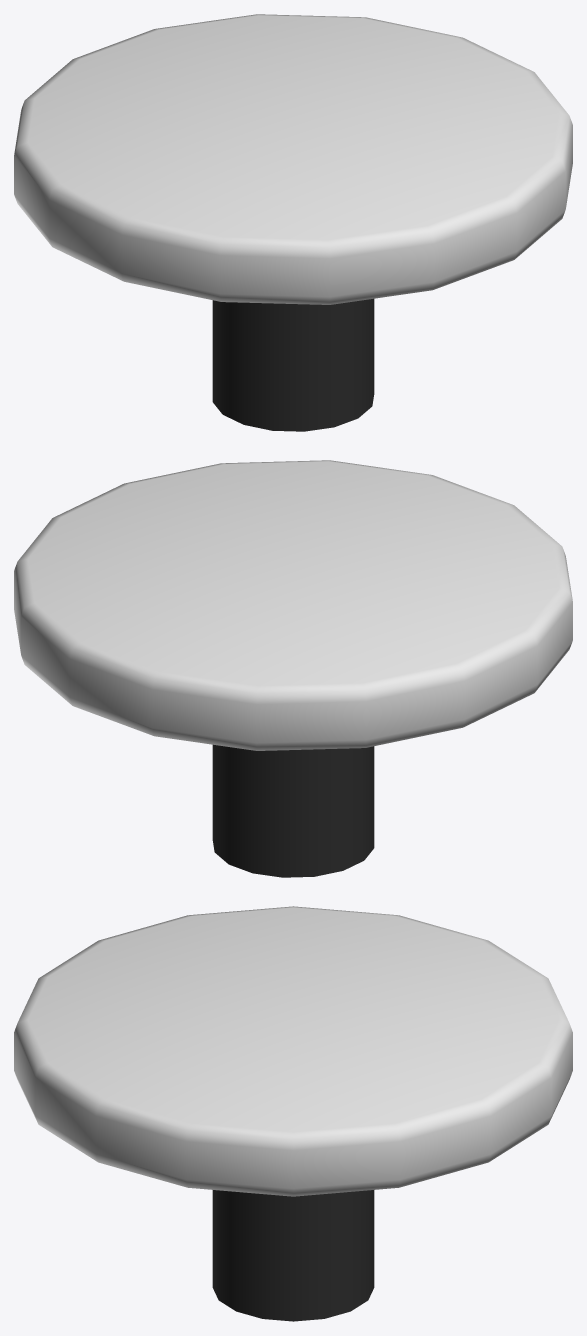
File: yizi_02.FBX
3 renders of one model, top to bottom at view 1: azimuth 30°, elevation 25°; view 2: azimuth 150°, elevation 25°; view 3: azimuth 270°, elevation 25°, orthographic.
Parts seen in each view (by area): view 1: yizi_02; view 2: yizi_02; view 3: yizi_02.
Boxes of the visible parts, left/top/right/bottom form: yizi_02: left=14, top=14, right=572, bottom=431; yizi_02: left=14, top=460, right=572, bottom=877; yizi_02: left=14, top=906, right=572, bottom=1321.
Bounding box in the file's own units: 40 × 21.12 × 40.
